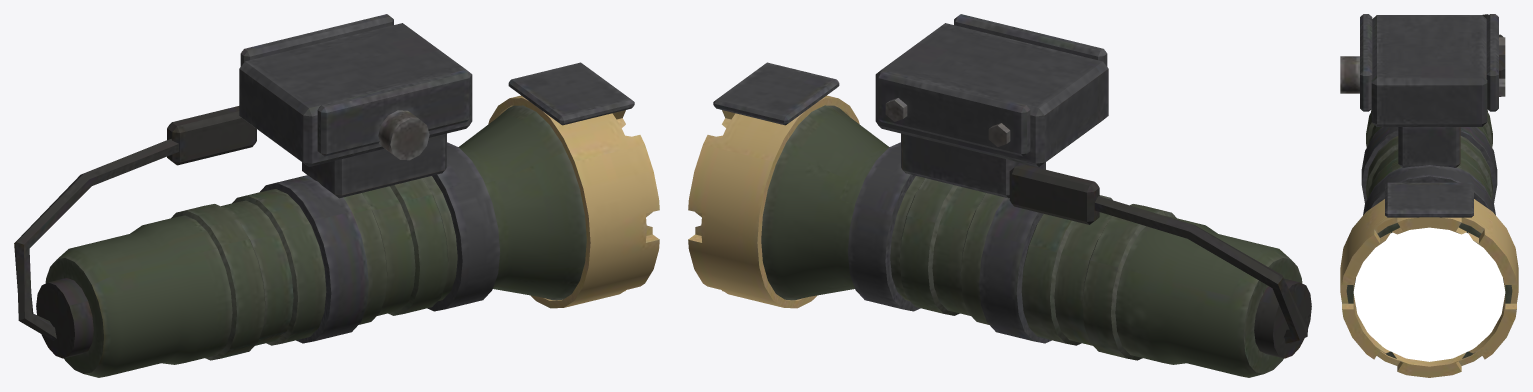
The model's file is lantern_rail.glb.
3 views of the same model, side by side, from view 1: azimuth 30°, elevation 25°; view 2: azimuth 150°, elevation 25°; view 3: azimuth 270°, elevation 25° (orthographic). The views are drawn at different scales.
Parts seen in each view (by area): view 1: lantern_rail; view 2: lantern_rail; view 3: lantern_rail, Glass.
Boxes of the visible parts, bbox=[...] form: lantern_rail: bbox=[14, 14, 659, 377]; lantern_rail: bbox=[688, 14, 1311, 377]; lantern_rail: bbox=[1340, 14, 1518, 377]; Glass: bbox=[1353, 227, 1505, 361].
Size of the model in its own units: 0.1236 by 0.058 by 0.04.
Materials: 2 (1 with a texture image).
